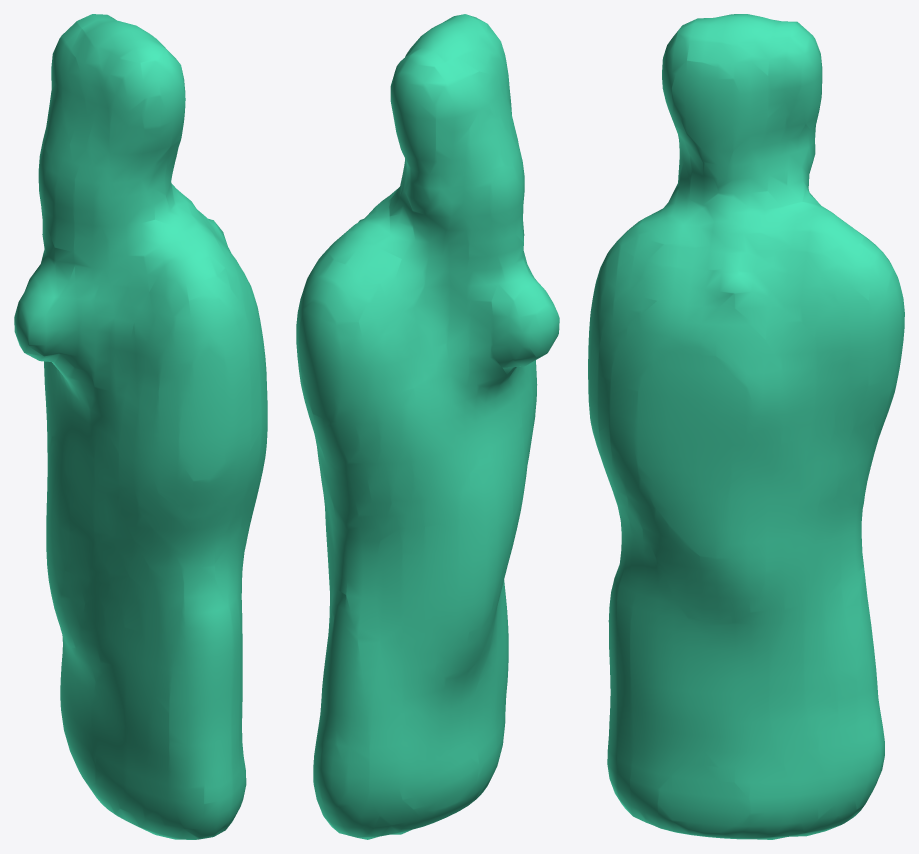
The picture shows the model from 3 angles, left to right: view 1: azimuth 30°, elevation 25°; view 2: azimuth 150°, elevation 25°; view 3: azimuth 270°, elevation 25°; orthographic projection.
Parts seen in each view (by area): view 1: Liquid_Domain; view 2: Liquid_Domain; view 3: Liquid_Domain.
Boxes of the visible parts, <box> form: Liquid_Domain: <box>14,14,267,839</box>; Liquid_Domain: <box>296,14,559,839</box>; Liquid_Domain: <box>588,14,904,839</box>.
Bounding box in the file's own units: 2.22 × 7.58 × 2.76.
